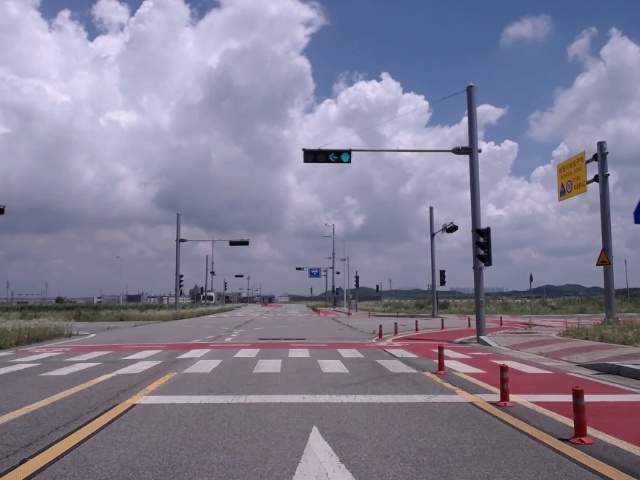all_green_4: (301, 148, 355, 163)
